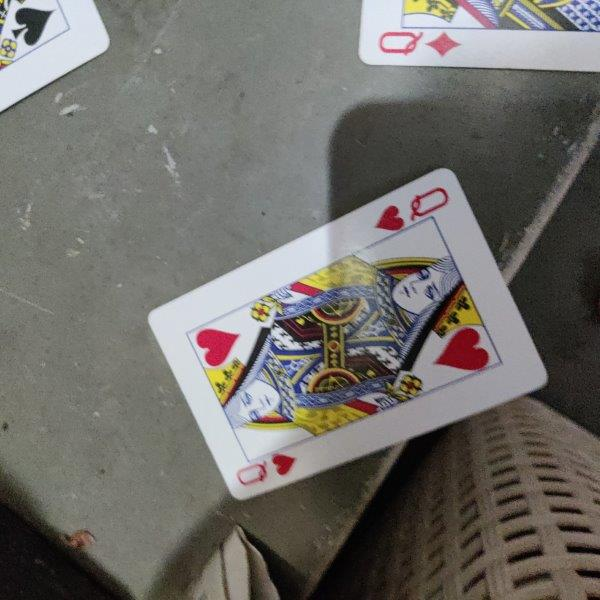Queen of Diamonds: (359, 1, 600, 72)
Queen of Hearts: (147, 168, 549, 503)
